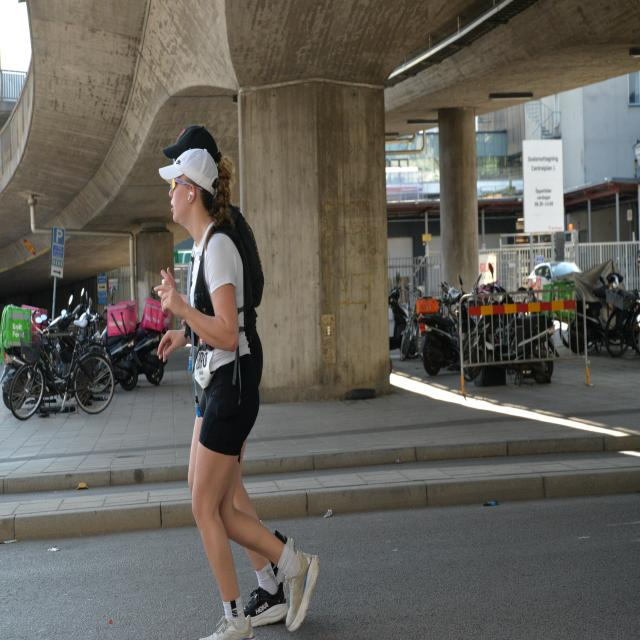runner-detect: (149, 157, 324, 640)
